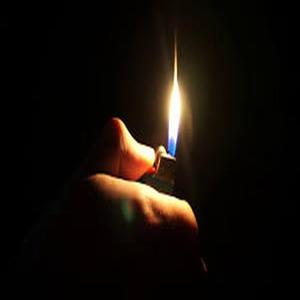fire: (165, 30, 191, 156)
